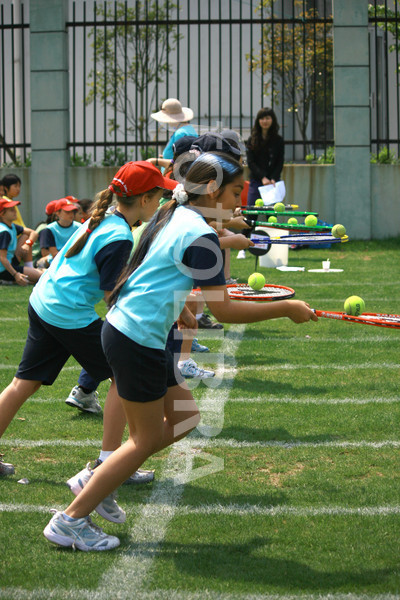tennis_ball: (342, 294, 368, 320), (247, 271, 269, 292), (329, 224, 347, 240), (304, 214, 321, 229), (286, 216, 299, 227), (266, 214, 279, 224), (273, 202, 286, 212), (253, 198, 266, 207)
